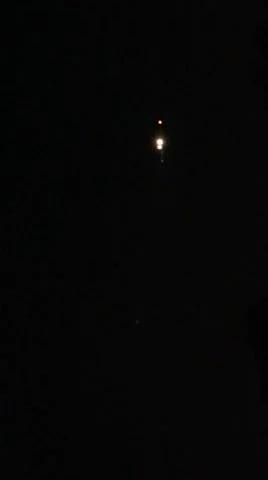Plane: (136, 92, 182, 182)
